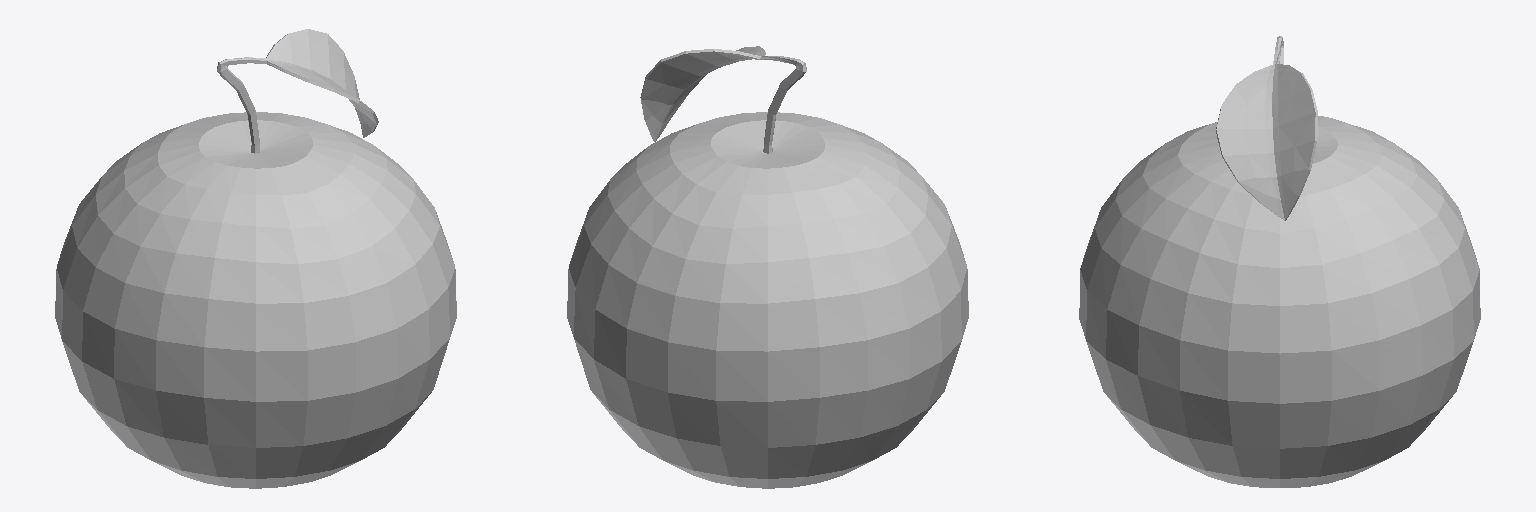
File: orange.obj
The picture shows the model from 3 angles: view 1: azimuth 30°, elevation 25°; view 2: azimuth 150°, elevation 25°; view 3: azimuth 270°, elevation 25°; orthographic projection.
Visible parts, largest first — view 1: Orange; view 2: Orange; view 3: Orange.
Boxes of the visible parts, x1=… form: Orange: x1=55, y1=29, x2=456, y2=488; Orange: x1=567, y1=46, x2=968, y2=488; Orange: x1=1079, y1=36, x2=1480, y2=487.
Bounding box in the file's own units: 0.0483 × 0.0543 × 0.0483.